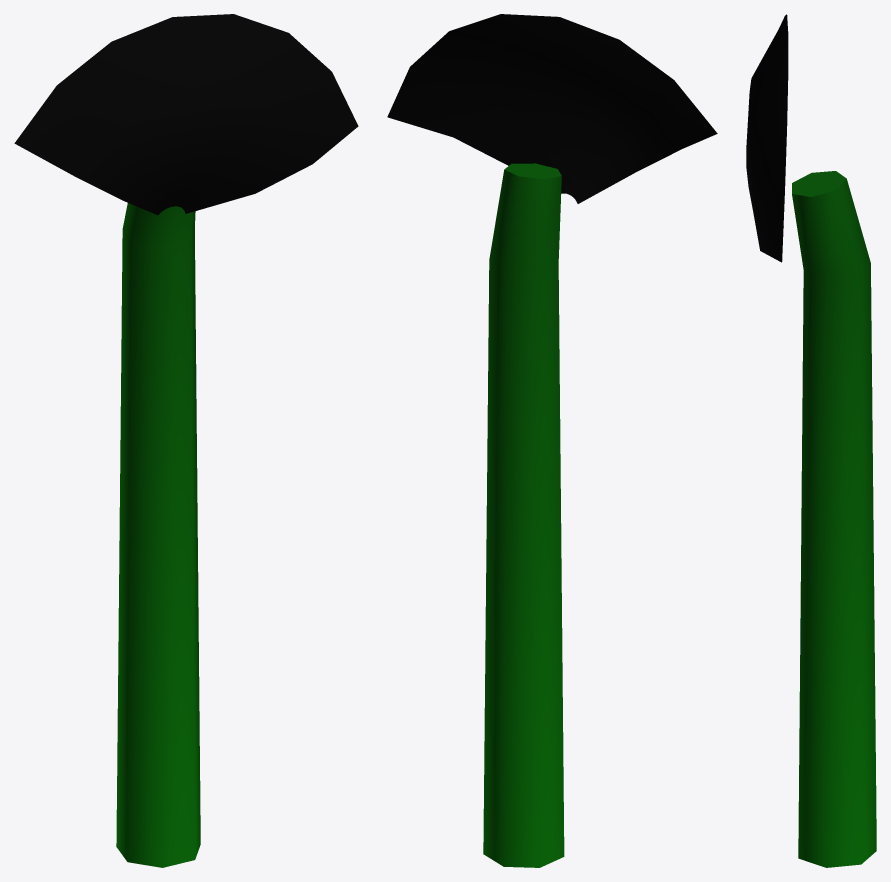
File: wake_shell_single.glb
3 renders of one model, left to right at view 1: azimuth 30°, elevation 25°; view 2: azimuth 150°, elevation 25°; view 3: azimuth 270°, elevation 25°, orthographic. The views are drawn at different scales.
Visible parts, largest first — view 1: wake_shell_single; view 2: wake_shell_single; view 3: wake_shell_single.
Part boxes in pixels (x1,y1,x2,y2): wake_shell_single: (14,14,358,867); wake_shell_single: (387,14,717,867); wake_shell_single: (746,14,876,867).
Size of what is drawn, in the model's own units: 0.6416 by 1.52 by 0.2218.
